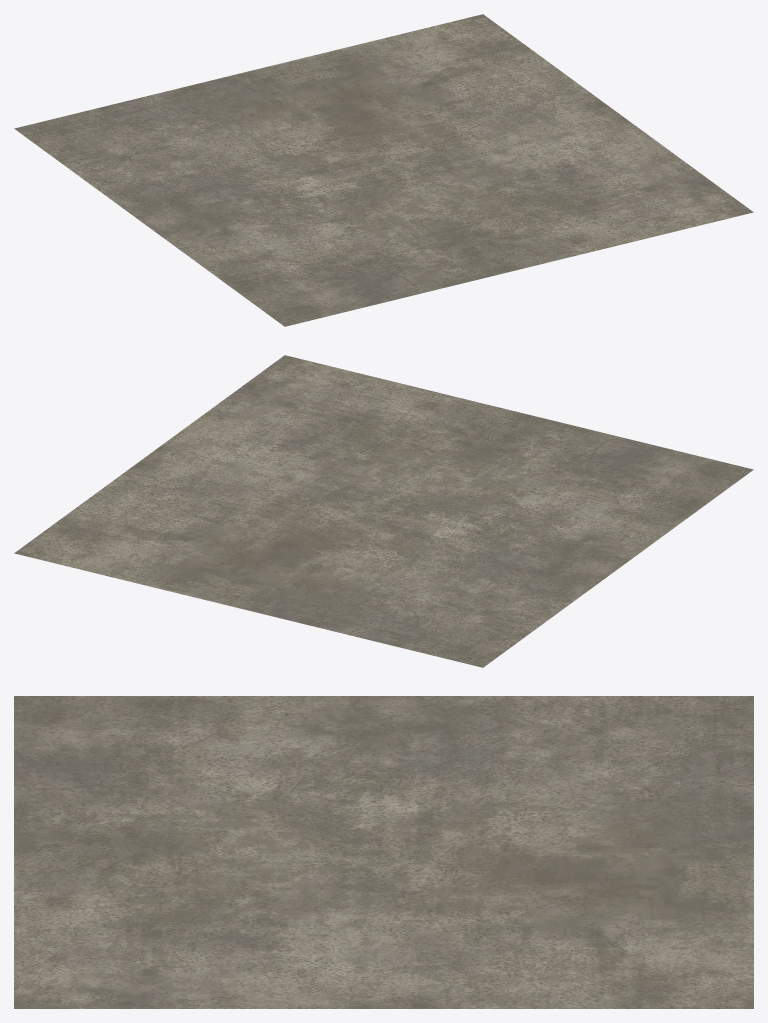
File: dockwall_floor_600.glb
The picture shows the model from 3 angles, top to bottom: view 1: azimuth 30°, elevation 25°; view 2: azimuth 150°, elevation 25°; view 3: azimuth 270°, elevation 25°; orthographic projection. The views are drawn at different scales.
Parts seen in each view (by area): view 1: dockwall_floor_600; view 2: dockwall_floor_600; view 3: dockwall_floor_600.
Part boxes in pixels (x1,y1,x2,y2): dockwall_floor_600: (14, 14, 753, 326); dockwall_floor_600: (14, 355, 753, 667); dockwall_floor_600: (14, 696, 753, 1008).
Size of the model in its own units: 6 by 0 by 6.
Materials: 1 (1 with a texture image).
